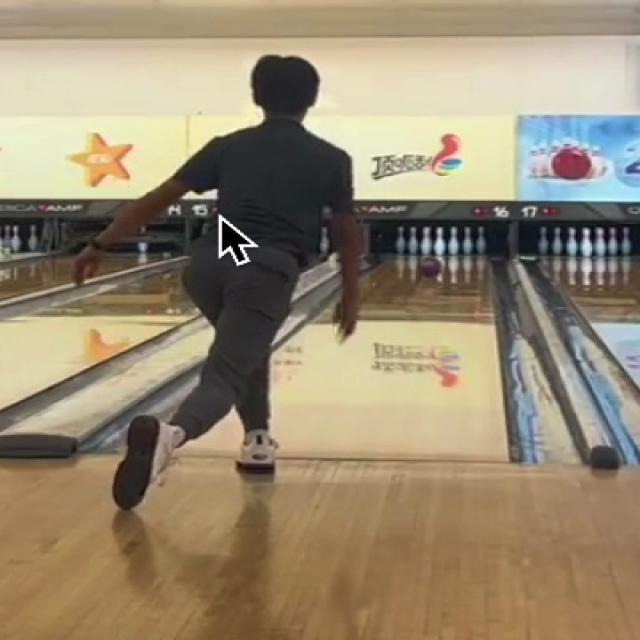alley: (270, 254, 506, 459)
balls: (420, 257, 441, 276)
bottle: (395, 224, 485, 256)
